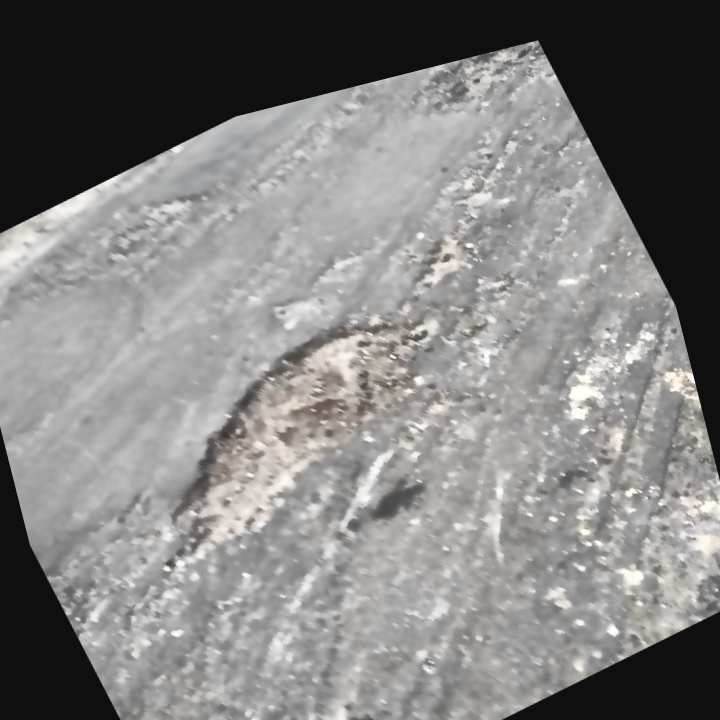pothole: (87, 276, 492, 583), (407, 39, 558, 129), (87, 178, 218, 265)
